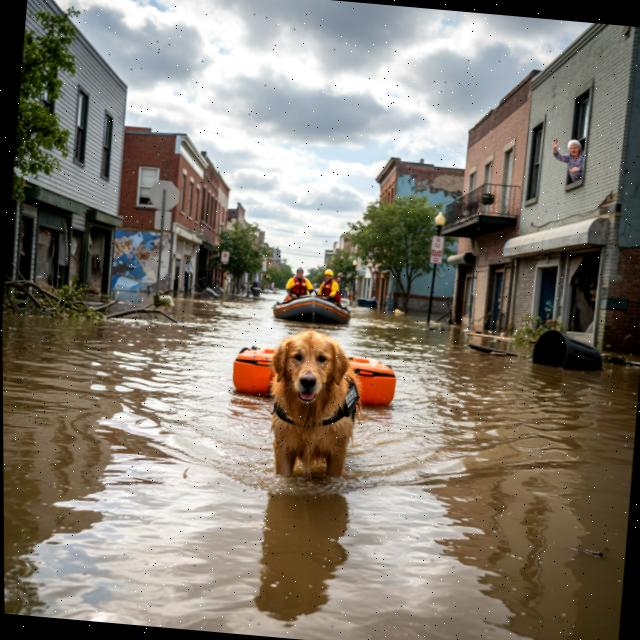dog: (246, 326, 375, 492)
rescuer: (283, 261, 315, 303), (313, 264, 342, 304)
